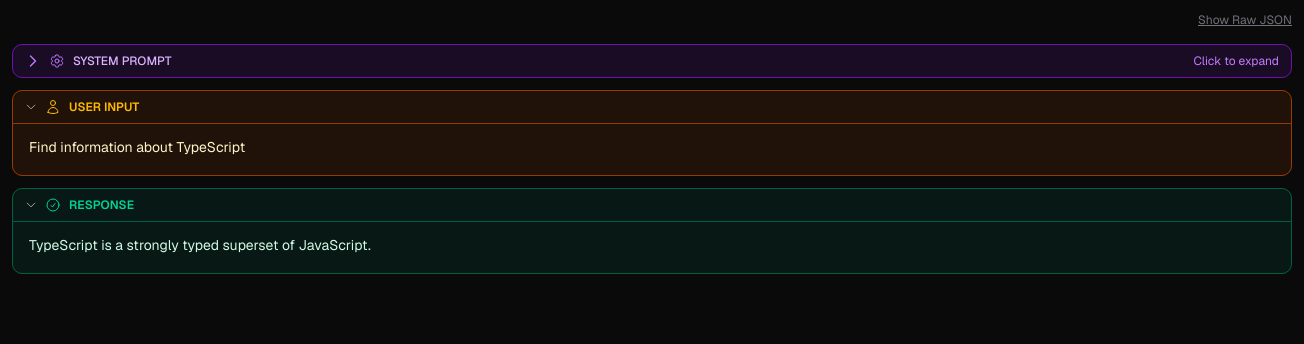
it: MessageRenderer › Anthropic format › handles system prompt as array format
Note: Click to expand and verify content
Click the text "System Prompt" at (122, 61), box [73,53,172,69]
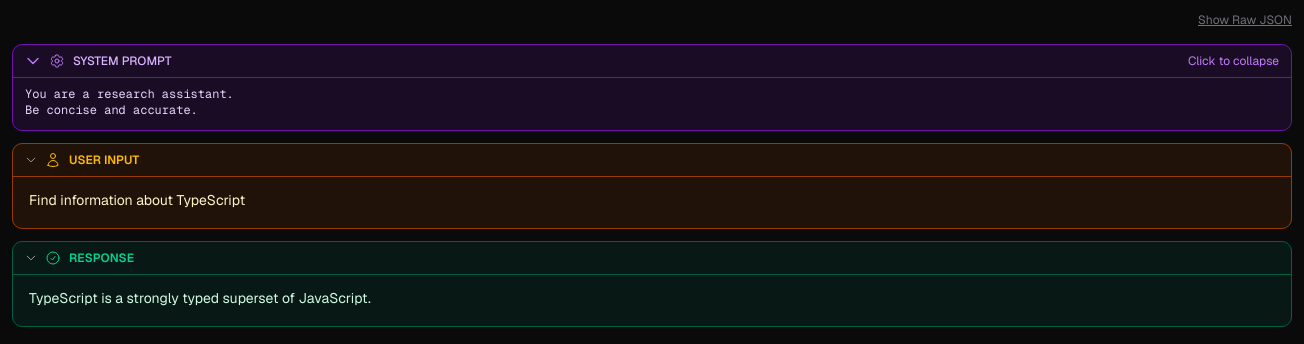
Expected: the text "You are a research assistant. Be concise and accurate." is shown, [25,86,234,118]
